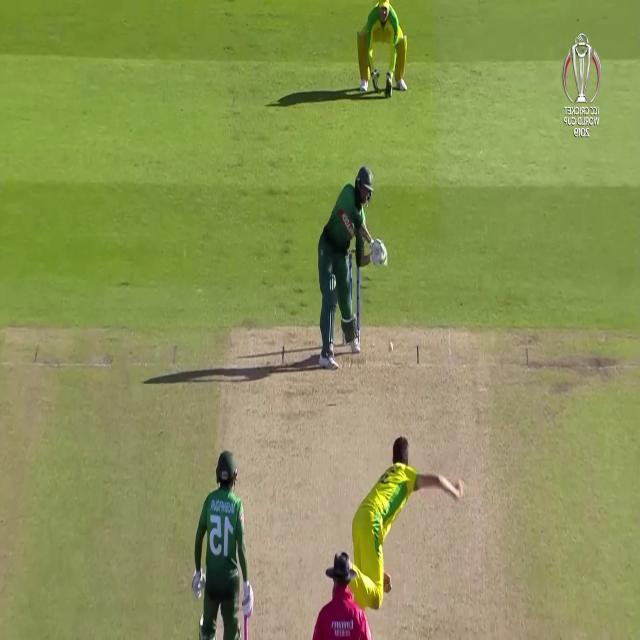ball: (388, 338, 394, 352)
